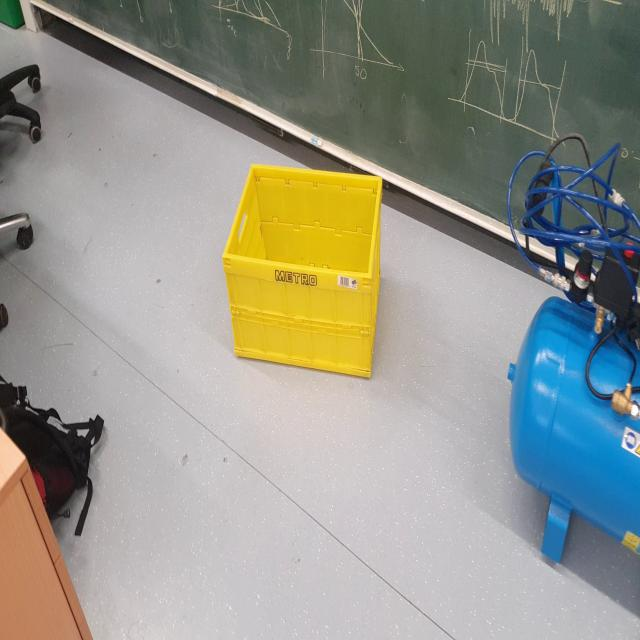box: (217, 154, 400, 413)
